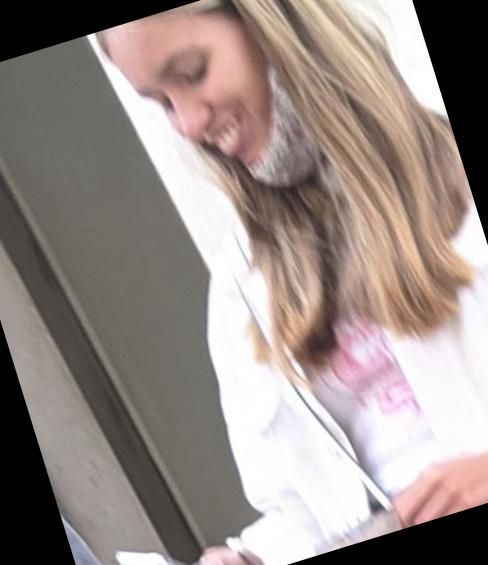mask_weared_incorrect: (110, 1, 339, 214)
